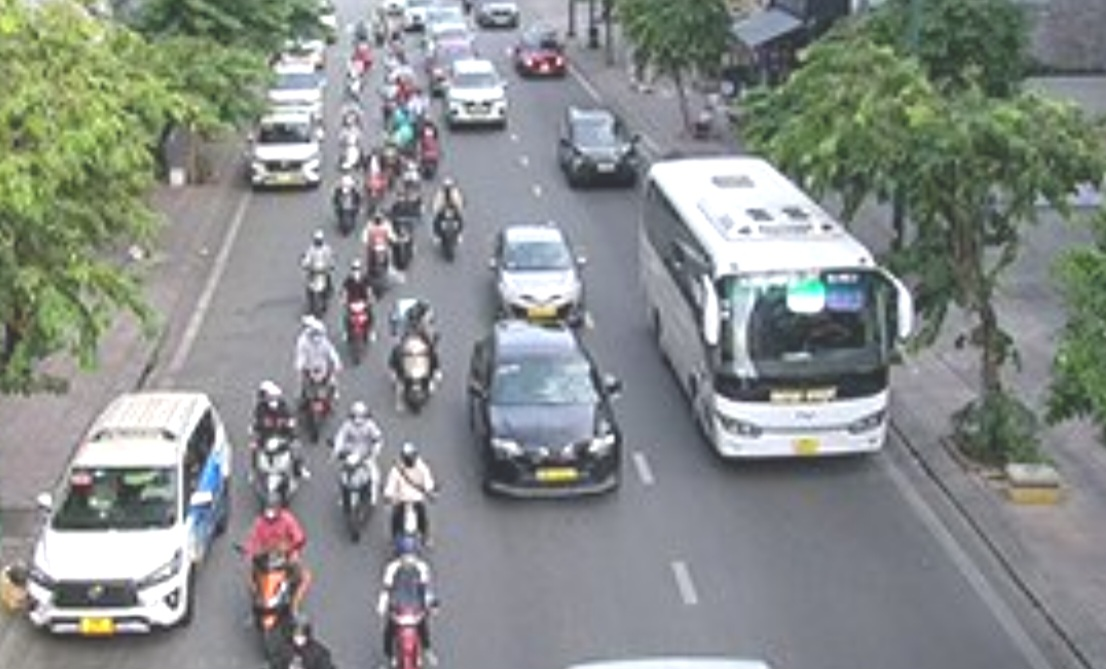car: (19, 389, 233, 646), (465, 330, 627, 506), (493, 223, 590, 326), (560, 105, 638, 189), (252, 113, 325, 189), (451, 64, 506, 129), (263, 61, 324, 114), (516, 30, 567, 78)
